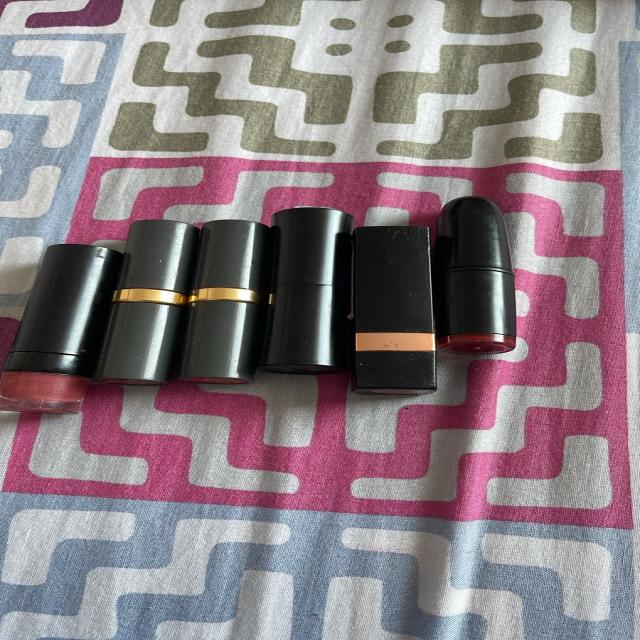lip stick: (5, 191, 534, 417)
